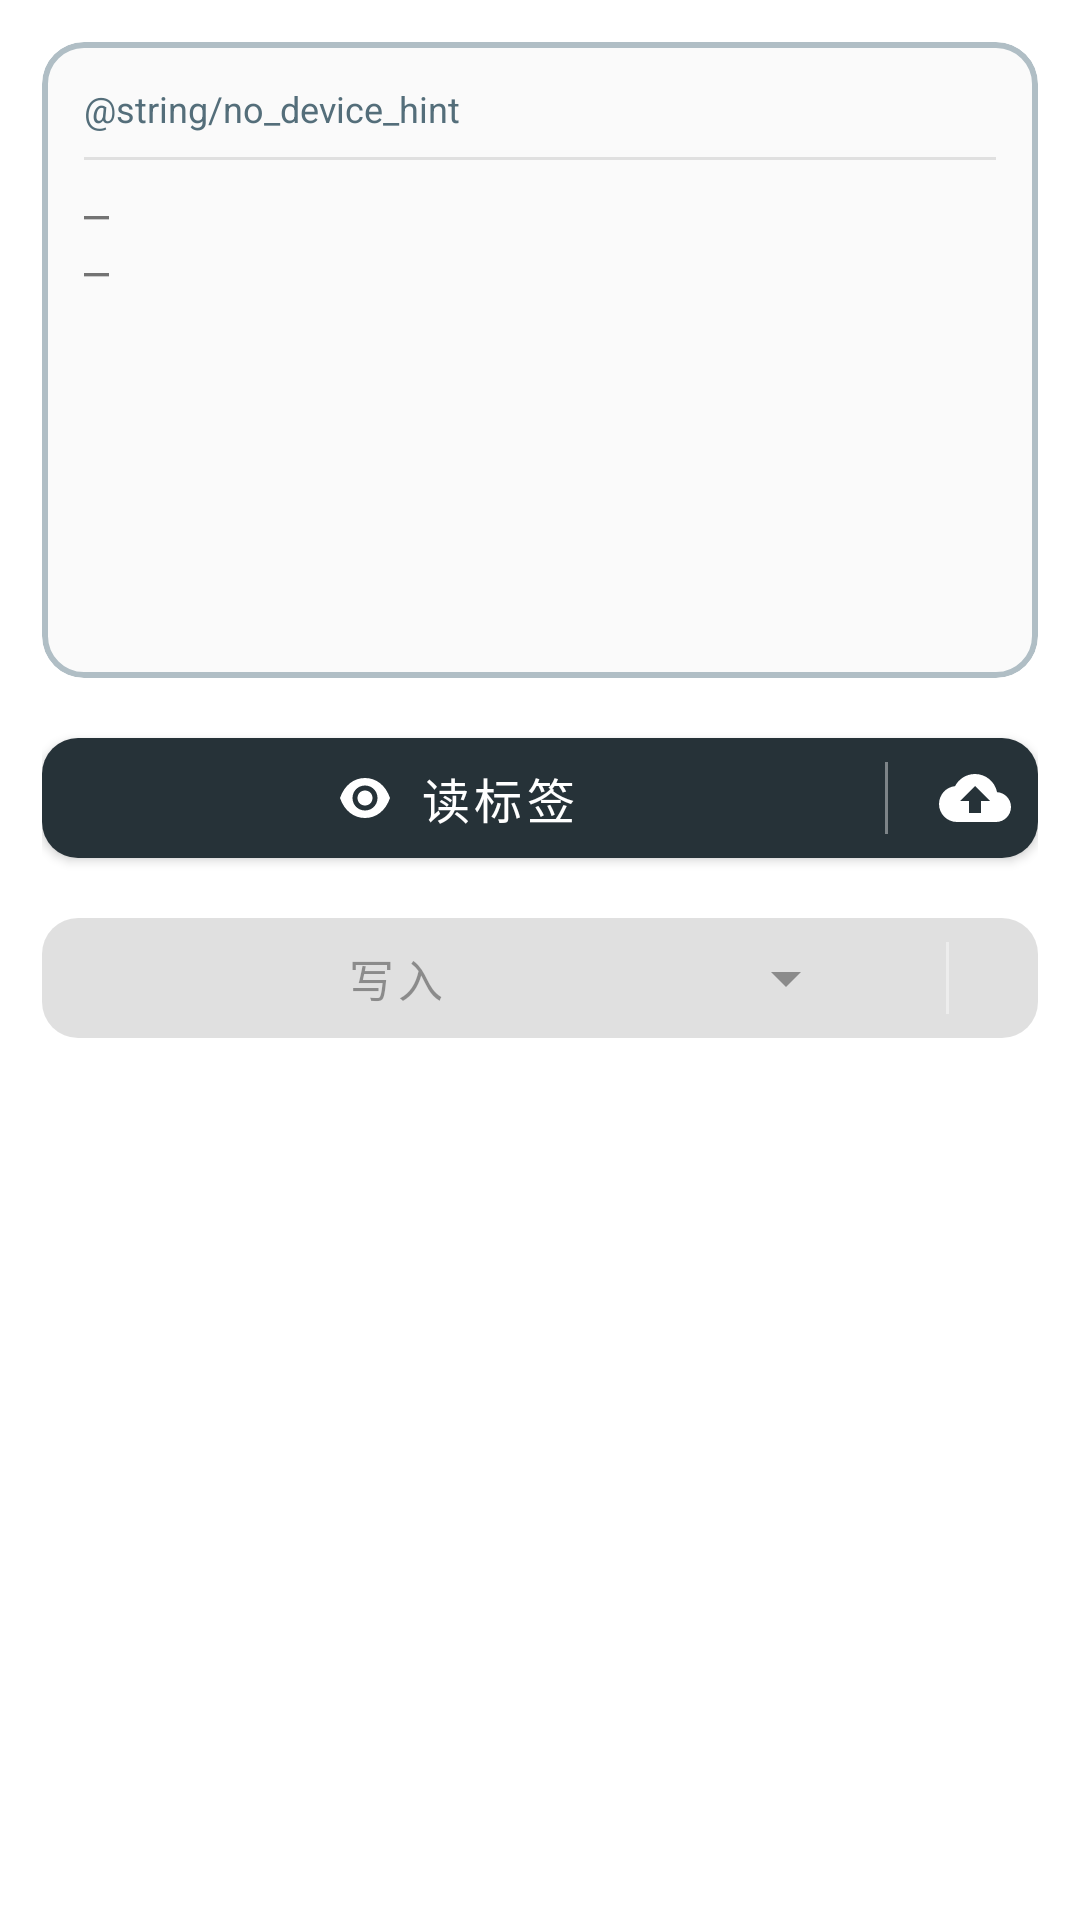

Screen size 1080w x 1920h. Icon name, then its center in pixels as [x,y]:
上传到云端: [975,798]
